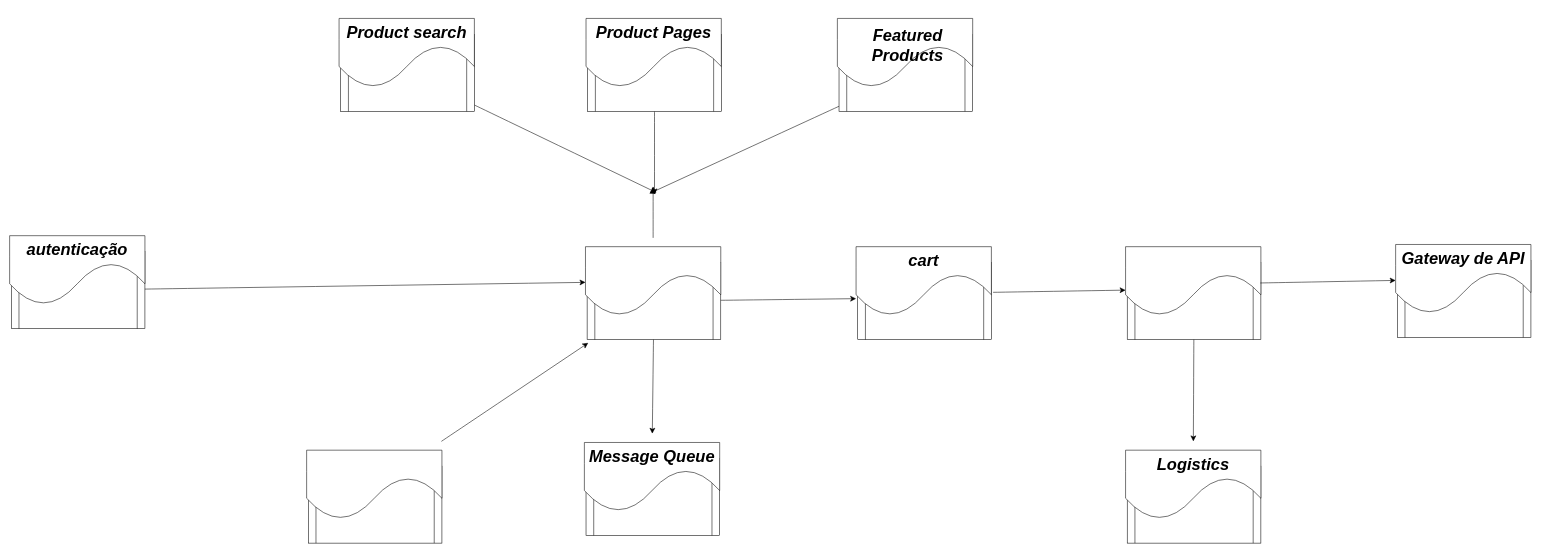
This 1541x553 diagram has some shape labels left out. The shapes that lost their labels are listed below. From the top down, each one's centre as x and y in pixels, then its label:
At (653,281): "Store".
At (1193,281): "Payment".
At (374,484): "DataBase".
